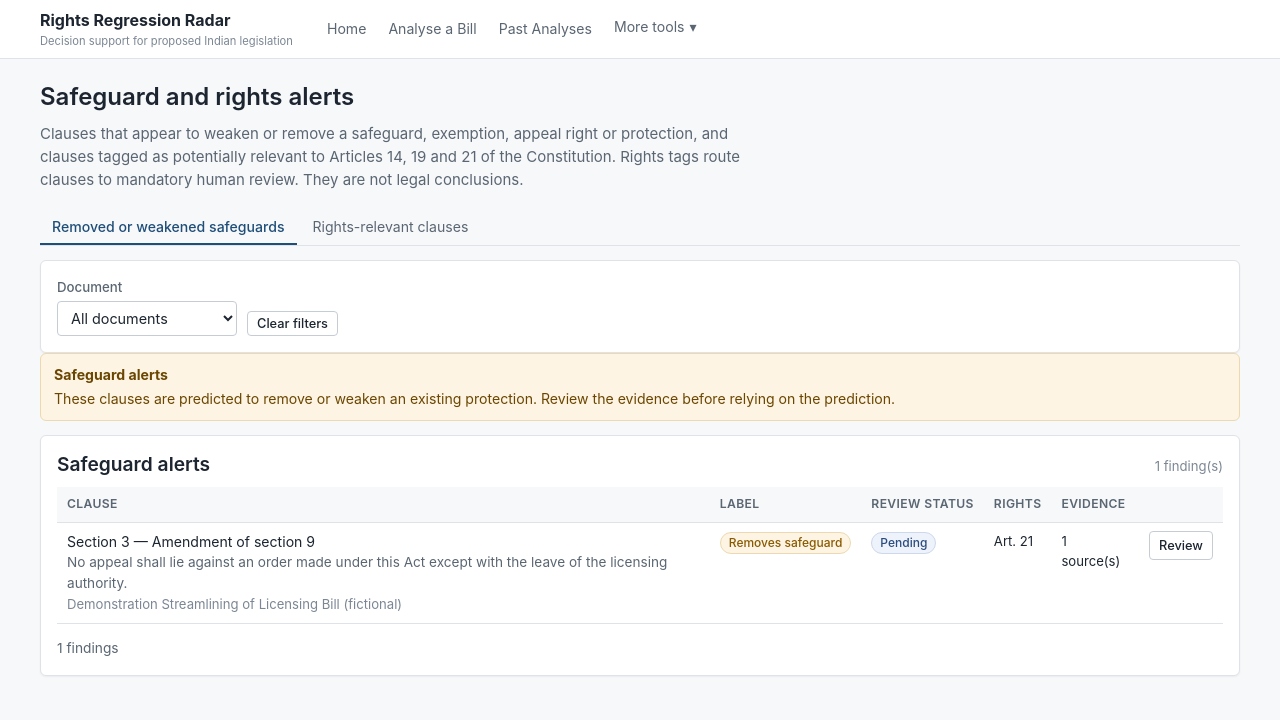
Test: alerts › switches between safeguard and rights views
The width and height of the screenshot is (1280, 720).
Expected: the text "Safeguard alerts" is shown, [54,366,168,383]
Click the tab "Rights-relevant clauses" at x=390, y=227, box [300,210,480,244]
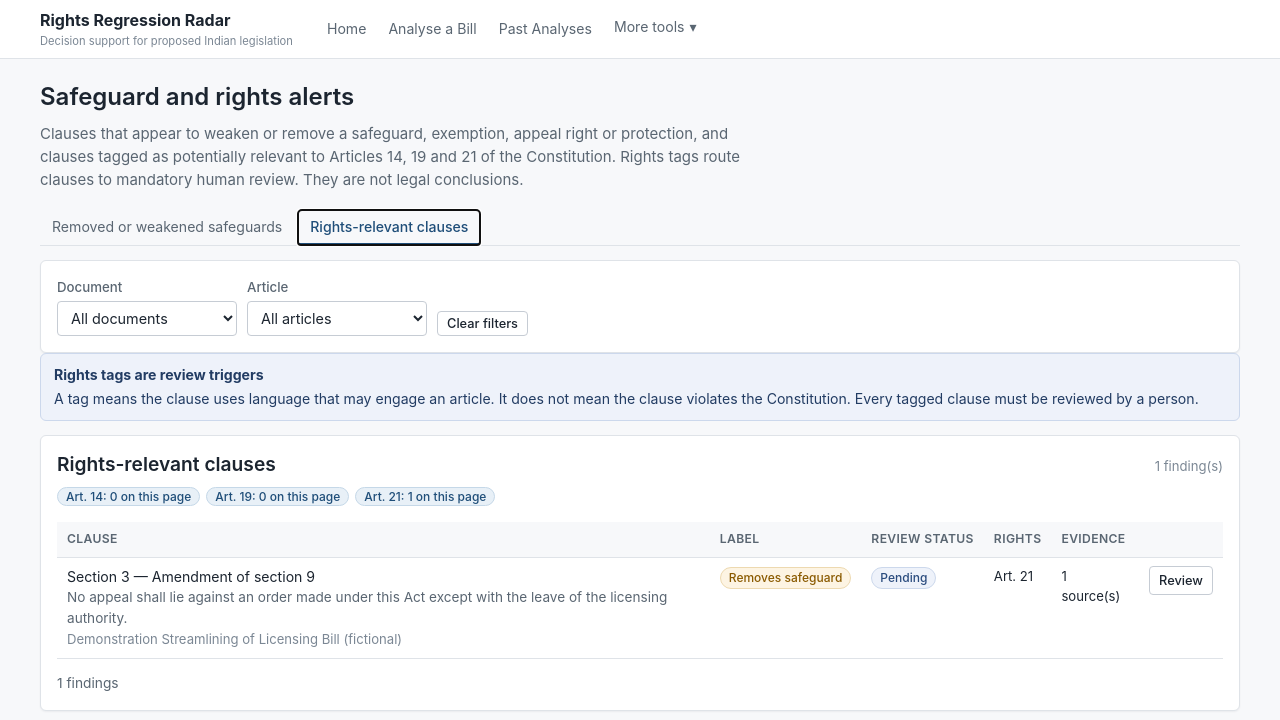
Result: the text "Rights tags are review triggers" is shown at [54,366,264,383]
